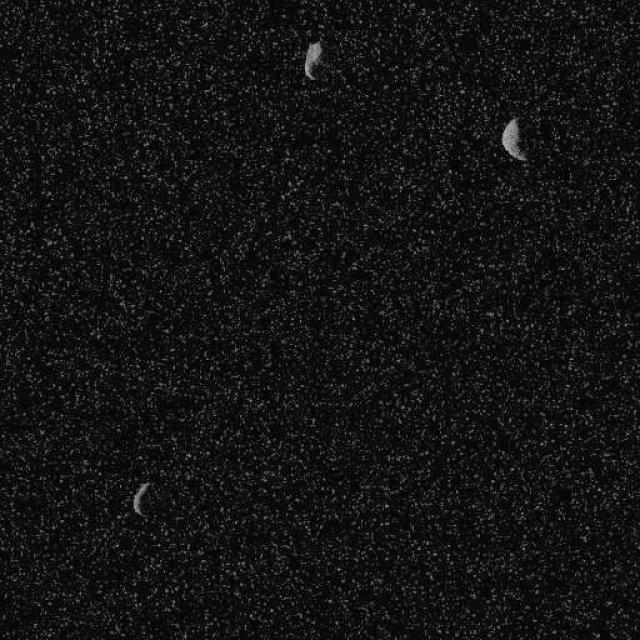D2: (500, 116, 528, 162), (302, 40, 322, 80), (131, 480, 151, 518)
